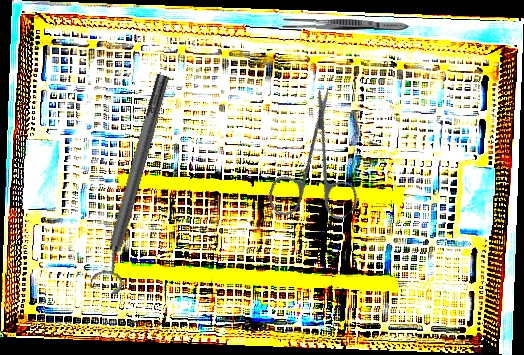Dressing Forceps: (280, 17, 410, 33)
Fixation Ring: (86, 71, 182, 296)
Iris Scissors: (232, 84, 399, 250)
